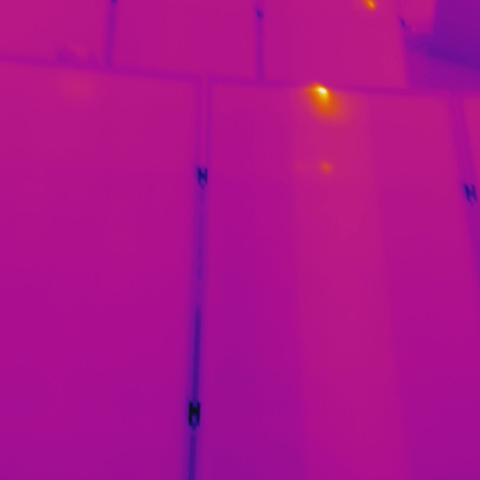fault: (308, 79, 336, 113)
